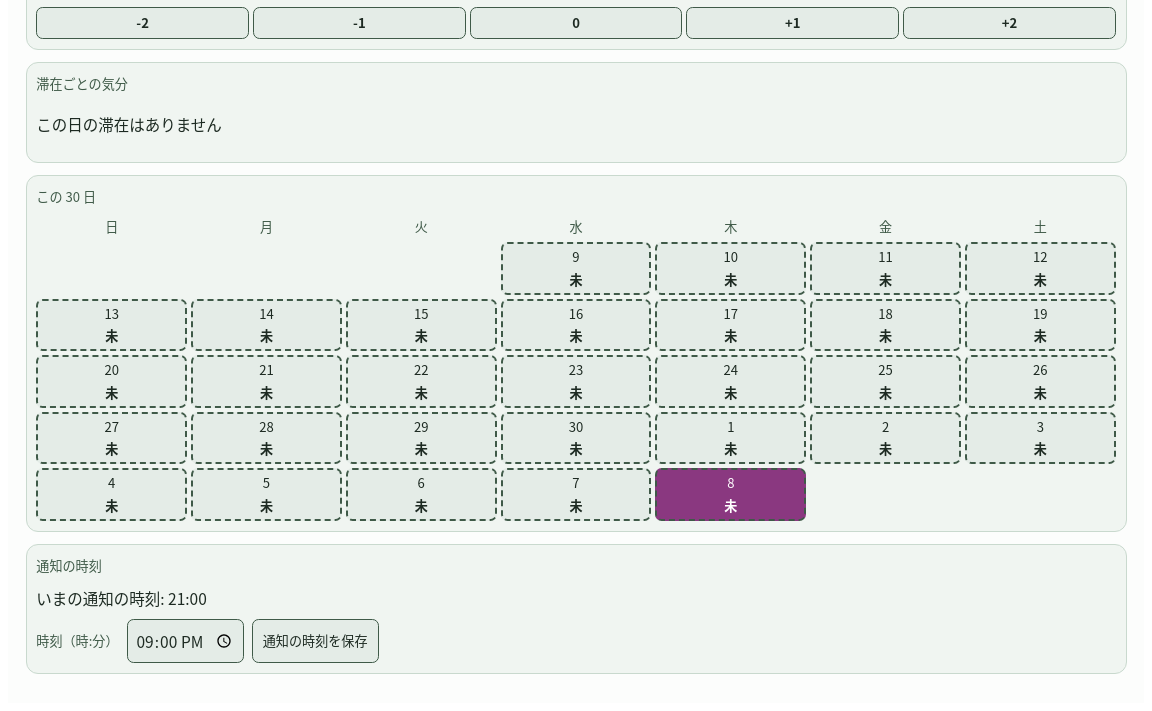
Test: 通知の時刻 › 22:30 にして保存すると、いまの通知の時刻が 22:30 になる
(page scrolled)
Expected: the text with test id "feel-reminder-current" reads "いまの通知の時刻: 21:00", [36, 587, 207, 609]
Replace the text in the time field with test id "feel-reminder-at" with "22:30" at coordinates (185, 641), box [126, 619, 244, 663]
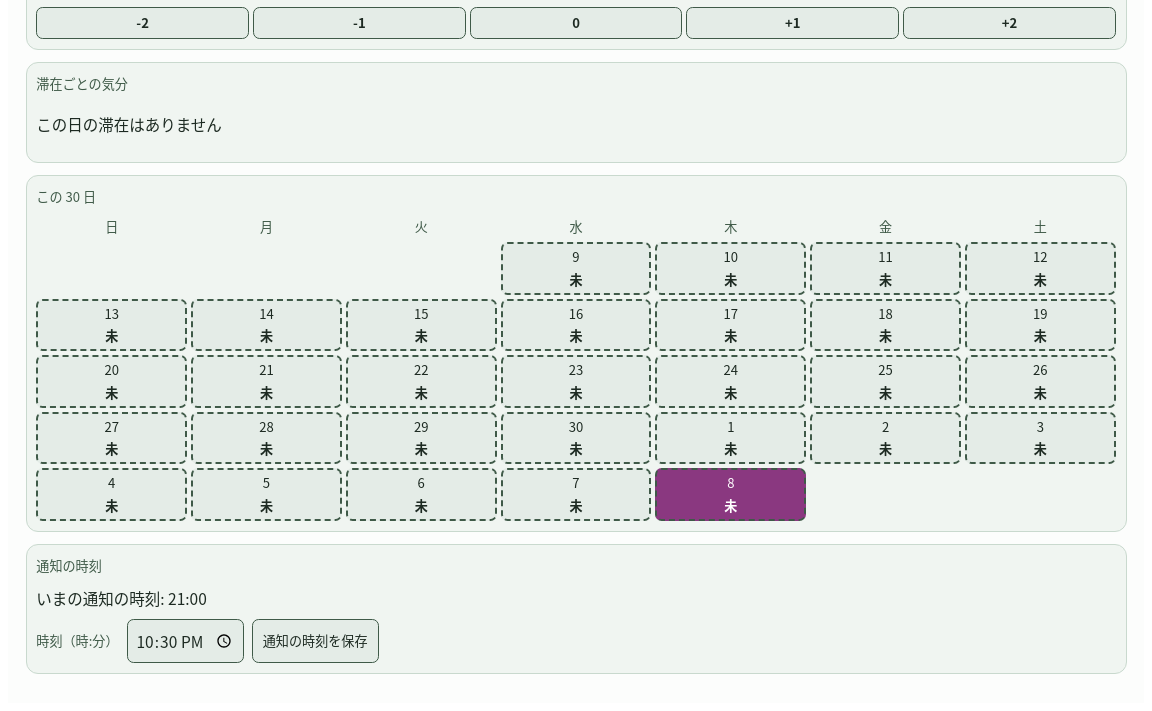
Click the button with test id "feel-reminder-save".
click(315, 641)  # box [252, 619, 379, 663]
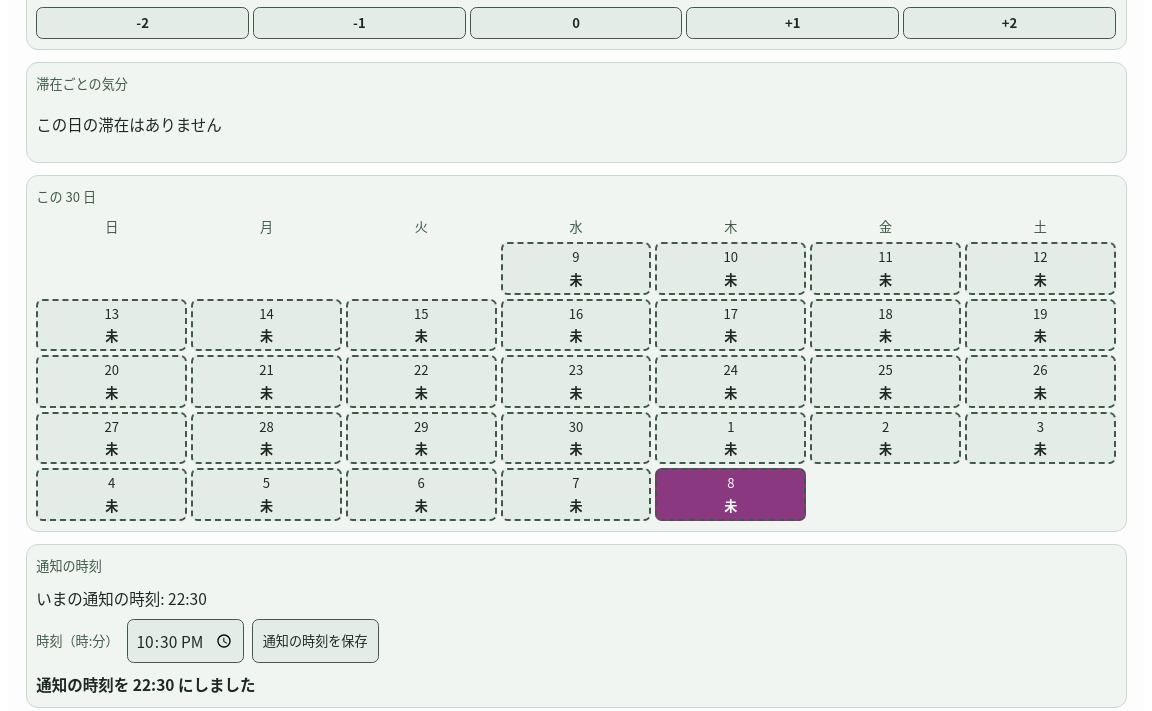
Expected: the text with test id "feel-reminder-current" reads "いまの通知の時刻: 22:30", [36, 587, 207, 609]
Expected: the text with test id "feel-reminder-ok" reads "通知の時刻を 22:30 にしました", [36, 673, 256, 695]
